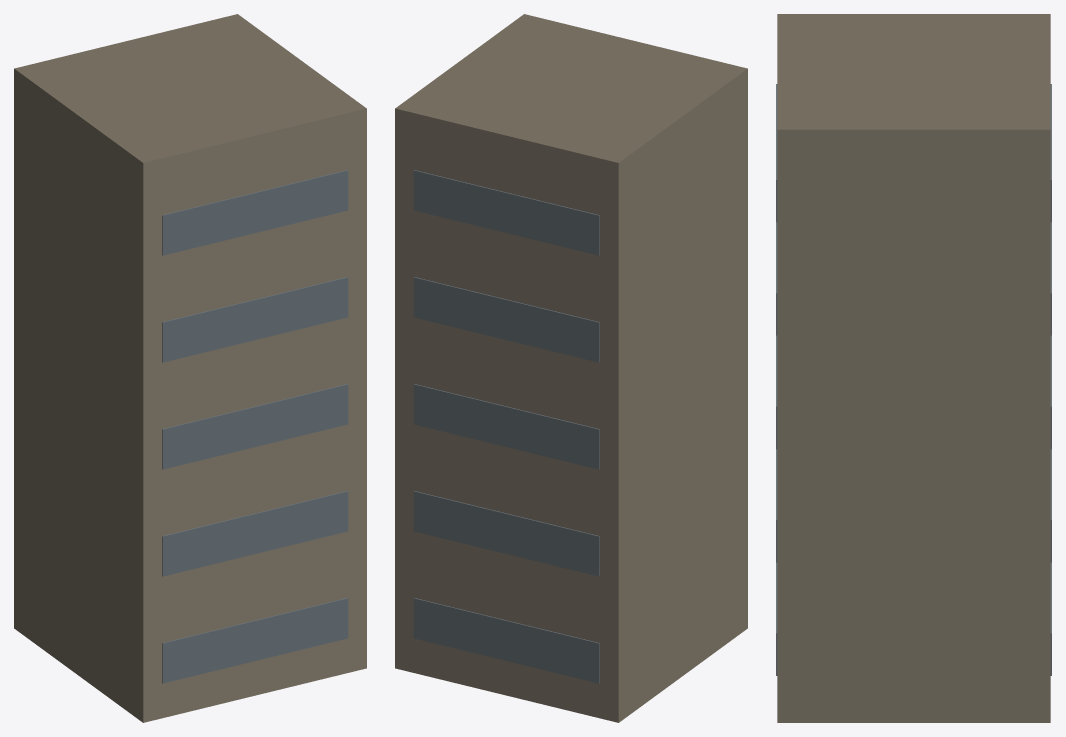
The model's file is control-tower.tone-v1.lod2.glb.
3 views of the same model, side by side, from view 1: azimuth 30°, elevation 25°; view 2: azimuth 150°, elevation 25°; view 3: azimuth 270°, elevation 25° (orthographic). The views are drawn at different scales.
Parts seen in each view (by area): view 1: control-tower; view 2: control-tower; view 3: control-tower.
Part boxes in pixels (left/top/right/bottom): control-tower: left=14, top=14, right=366, bottom=722; control-tower: left=395, top=14, right=747, bottom=722; control-tower: left=776, top=14, right=1051, bottom=722.
Bounding box in the file's own units: 7 × 16.75 × 7.06.
